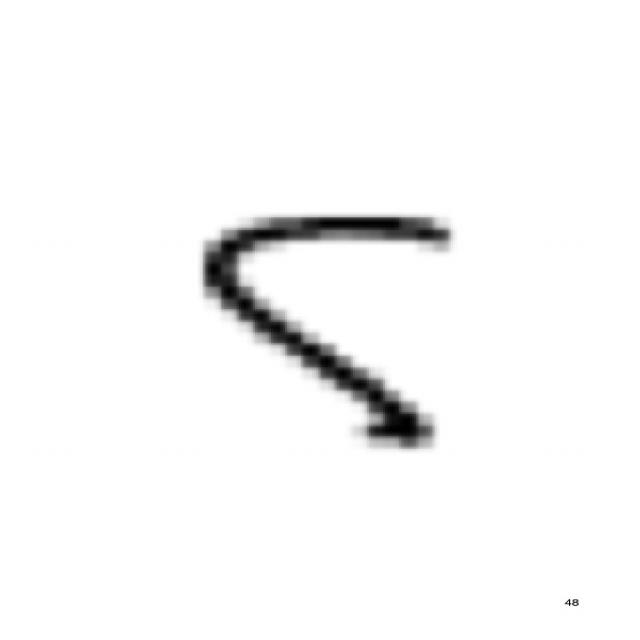2 -two-: (180, 200, 482, 465)
